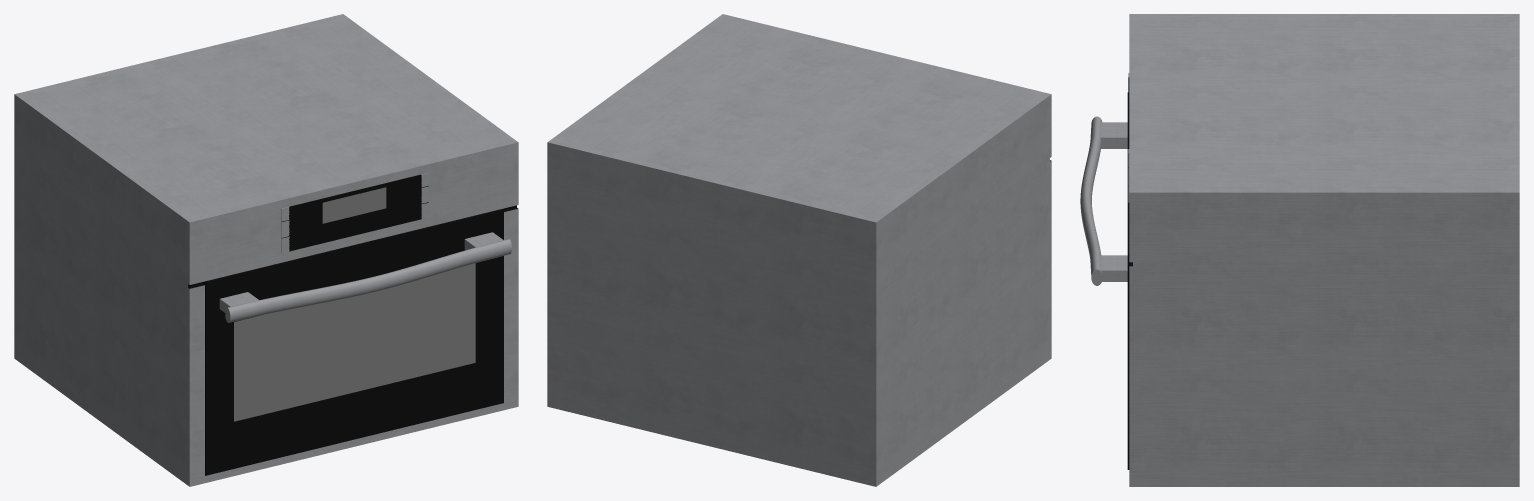
File: MICROWAVE-24x15.glb
3 views of the same model, side by side, from view 1: azimuth 30°, elevation 25°; view 2: azimuth 150°, elevation 25°; view 3: azimuth 270°, elevation 25° (orthographic). The views are drawn at different scales.
Visible parts, largest first — view 1: Bosch_Microwave; view 2: Bosch_Microwave; view 3: Bosch_Microwave.
Boxes of the visible parts, x1,y1,x2,y2 form: Bosch_Microwave: (14,14,518,486); Bosch_Microwave: (547,14,1051,486); Bosch_Microwave: (1080,14,1519,486).
Size of the model in its own units: 592 by 455 by 615.
Materials: 3 (1 with a texture image).
